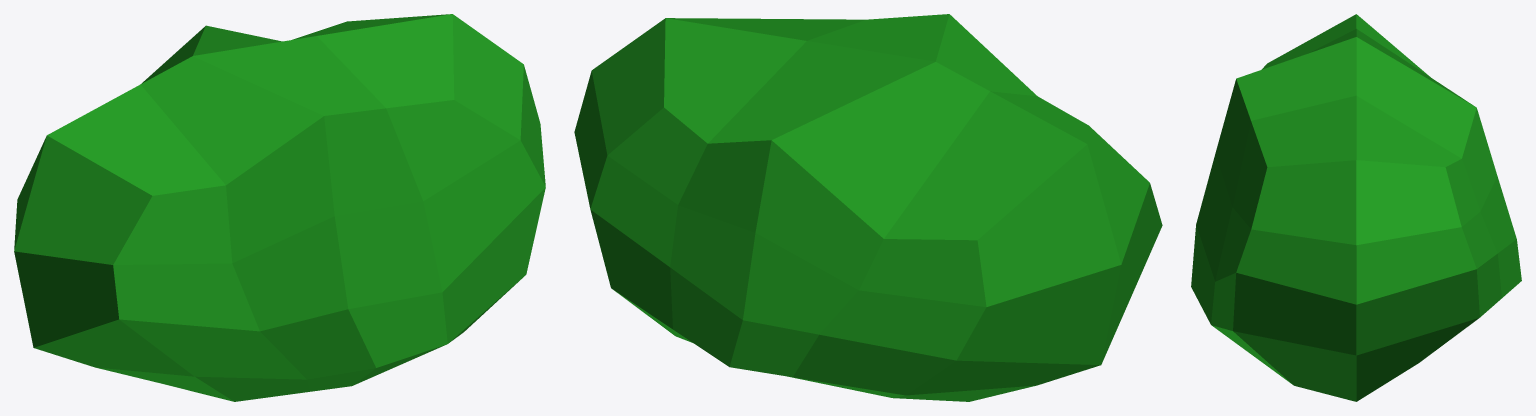
The model's file is bush-asset-3.glb.
The picture shows the model from 3 angles, left to right: view 1: azimuth 30°, elevation 25°; view 2: azimuth 150°, elevation 25°; view 3: azimuth 270°, elevation 25°; orthographic projection. The views are drawn at different scales.
Visible parts, largest first — view 1: ruler_flower2; view 2: ruler_flower2; view 3: ruler_flower2.
Boxes of the visible parts, x1,y1,x2,y2 form: ruler_flower2: (14, 14, 545, 401); ruler_flower2: (574, 14, 1162, 401); ruler_flower2: (1191, 14, 1521, 401).
Bounding box in the file's own units: 450 × 261 × 294.
